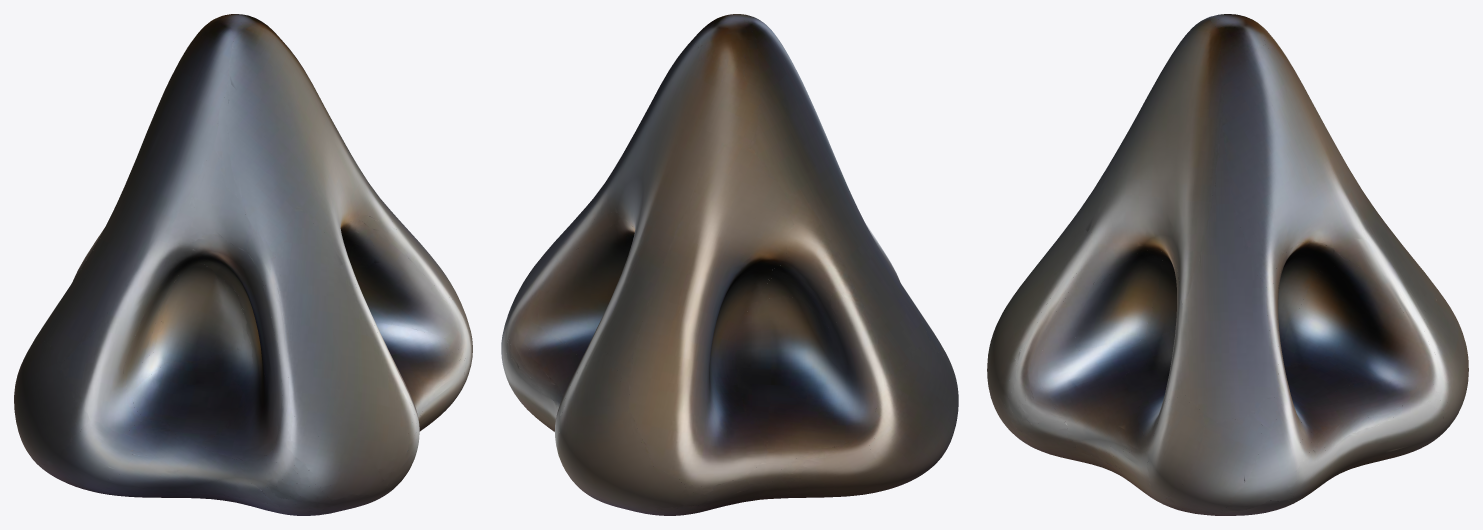
Rendered from BlackNose.glb.
3 views of the same model, side by side, from view 1: azimuth 30°, elevation 25°; view 2: azimuth 150°, elevation 25°; view 3: azimuth 270°, elevation 25° (orthographic).
Parts seen in each view (by area): view 1: node_0; view 2: node_0; view 3: node_0.
Boxes of the visible parts, x1,y1,x2,y2 form: node_0: (14,14,472,515); node_0: (501,14,958,515); node_0: (987,14,1468,515).
Size of the model in its own units: 0.9483 by 0.9122 by 0.9479.
Materials: 1 (1 with a texture image).
